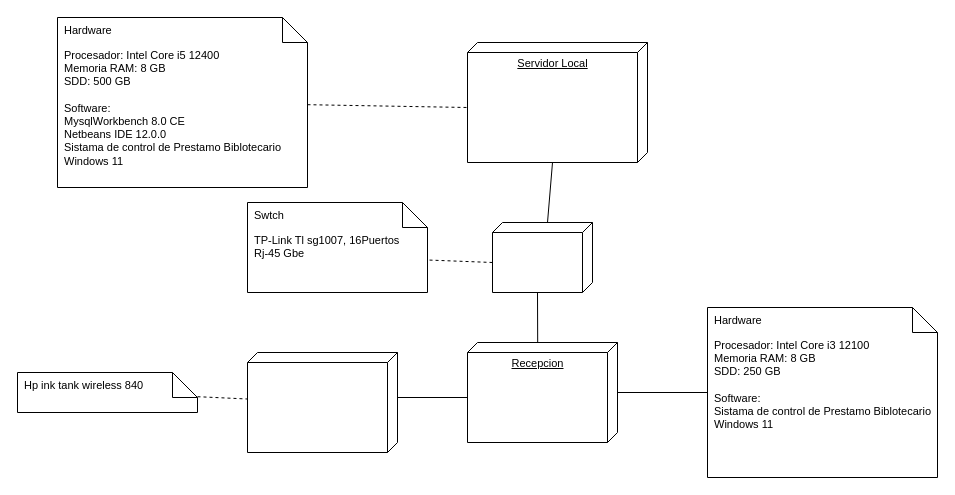
The diagram is 955 pixels wide and 495 high, and some of its shapes have lost their labels. Each missing label, with the box of its shape:
Impresora: (246, 352, 398, 452)
Switch: (492, 222, 592, 292)
